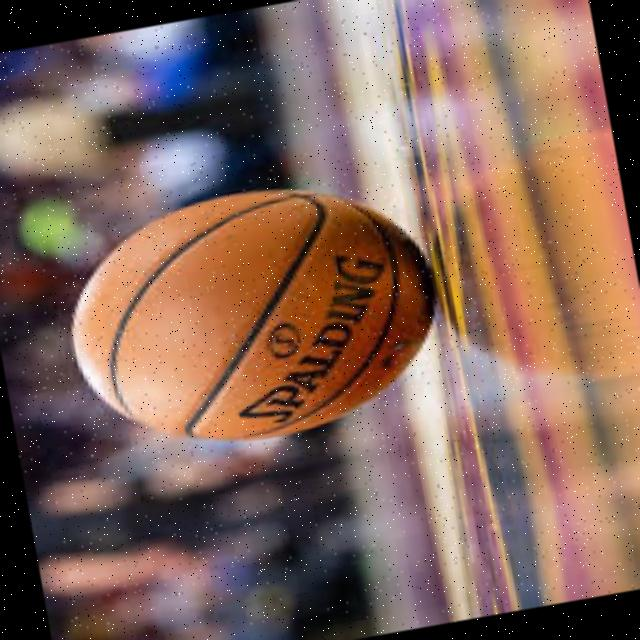ball: (55, 163, 445, 464)
